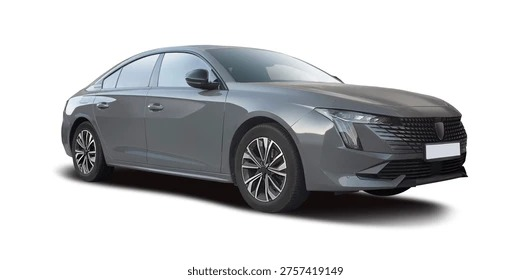car: (58, 39, 475, 211), (60, 44, 463, 202)
